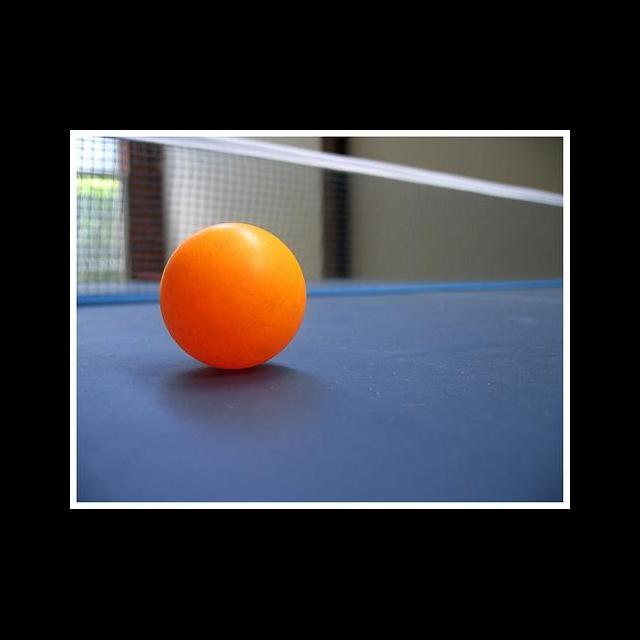ping-pong-ball: (157, 220, 309, 373)
